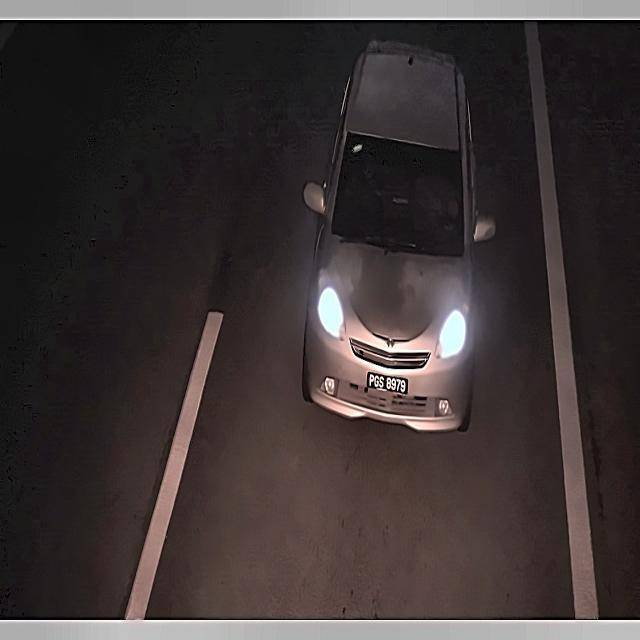car: (360, 364, 412, 398)
